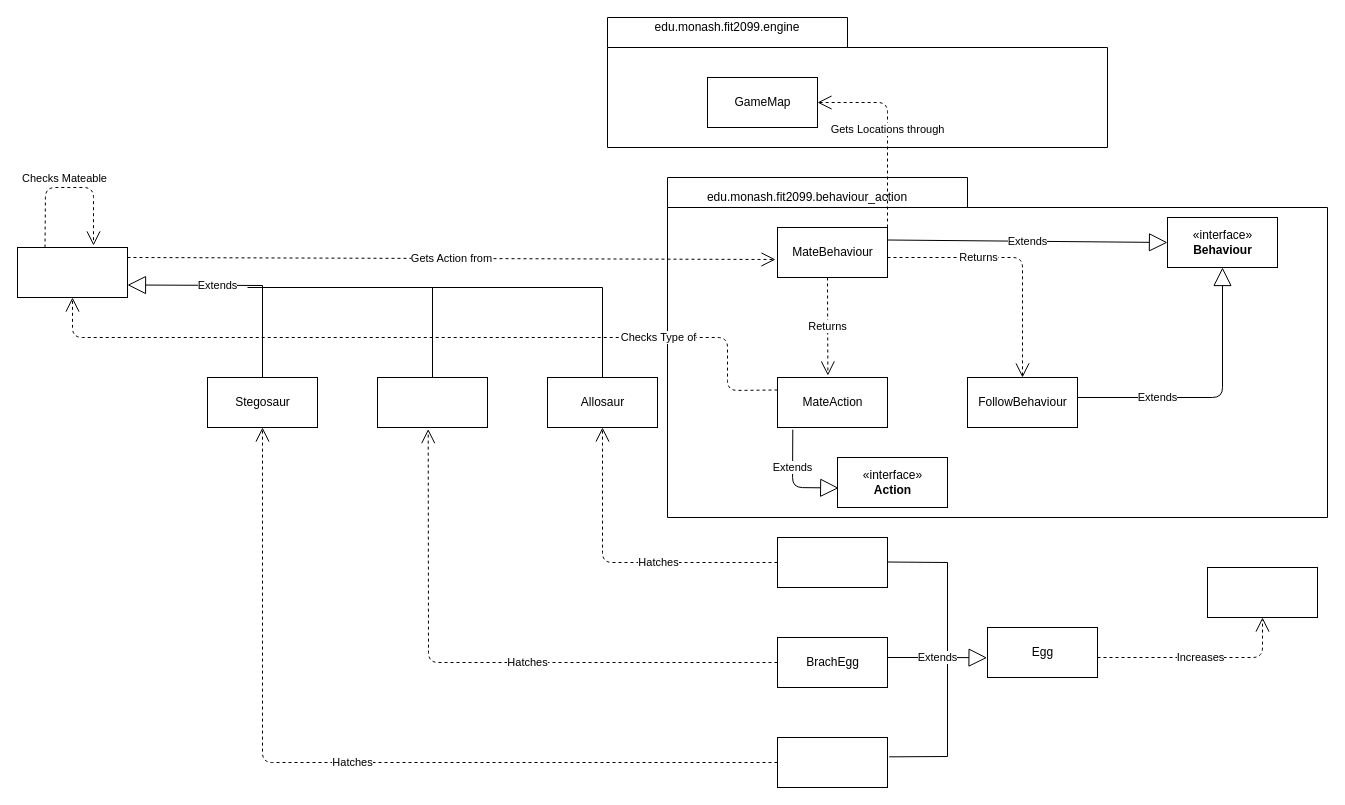
Some shapes in this 1345 by 805 pixel diagram are drawn without their labels. The box of each missing label's shape, as (x1, y1, x2, y2) in pixels:
AlloEgg: (776, 536, 888, 588)
Brachiosaur: (376, 376, 488, 428)
EcoPoints: (1206, 566, 1318, 618)
StegEgg: (776, 736, 888, 788)
«interface» Dinosaur: (16, 246, 128, 298)
